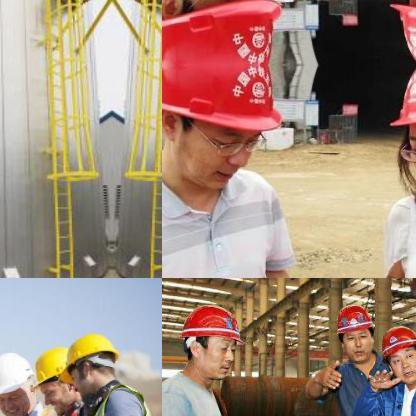Helmet: (162, 62, 294, 194), (162, 0, 295, 65), (175, 296, 250, 384), (378, 63, 415, 214), (62, 326, 122, 398), (34, 338, 90, 406), (330, 298, 378, 358), (0, 348, 38, 415), (377, 0, 415, 65), (377, 321, 415, 381)
